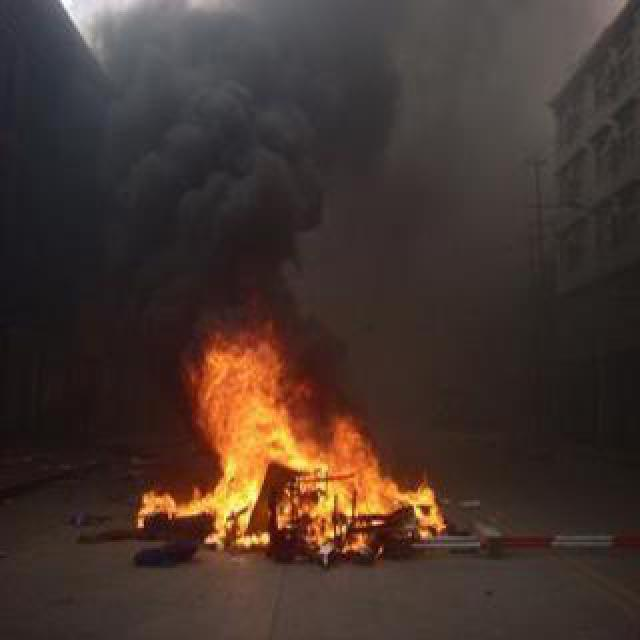Fire: (128, 344, 436, 530)
Smoke: (62, 4, 412, 338)
